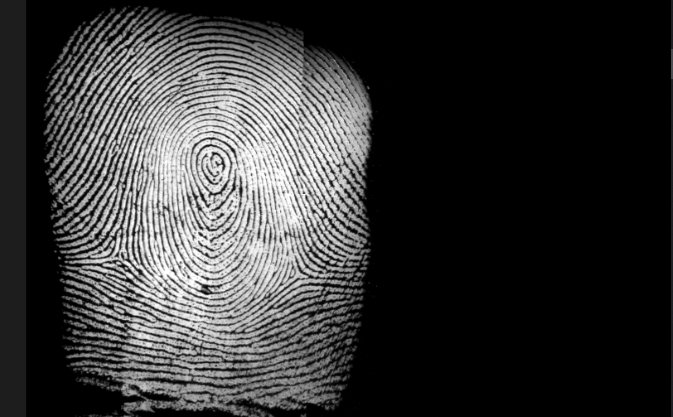nucelo: (190, 142, 233, 191)
verticilo: (98, 236, 131, 270), (281, 261, 317, 288)
